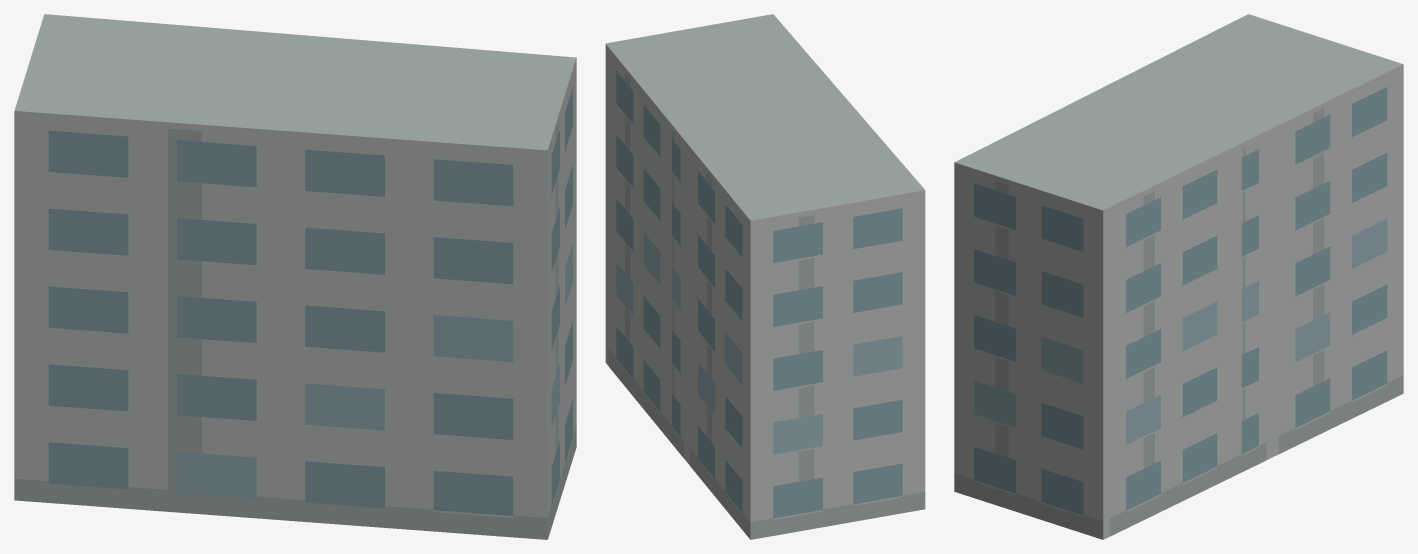
Rendered from survey-upis-32801252.glb.
3 views of the same model, side by side, from view 1: azimuth 30°, elevation 25°; view 2: azimuth 150°, elevation 25°; view 3: azimuth 270°, elevation 25° (orthographic). The views are drawn at different scales.
Parts seen in each view (by area): view 1: survey-upis-32801252.tmp; view 2: survey-upis-32801252.tmp; view 3: survey-upis-32801252.tmp.
Part boxes in pixels (bbox=[...]): survey-upis-32801252.tmp: bbox=[14, 14, 576, 539]; survey-upis-32801252.tmp: bbox=[605, 14, 925, 539]; survey-upis-32801252.tmp: bbox=[954, 14, 1403, 539].
Bounding box in the file's own units: 19.08 × 14.9 × 18.42.
